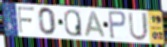0: (37, 7, 58, 37)
A: (84, 11, 107, 38)
F: (17, 6, 36, 35)
P: (107, 10, 128, 41)
Q: (64, 8, 84, 37)
U: (127, 11, 150, 42)
